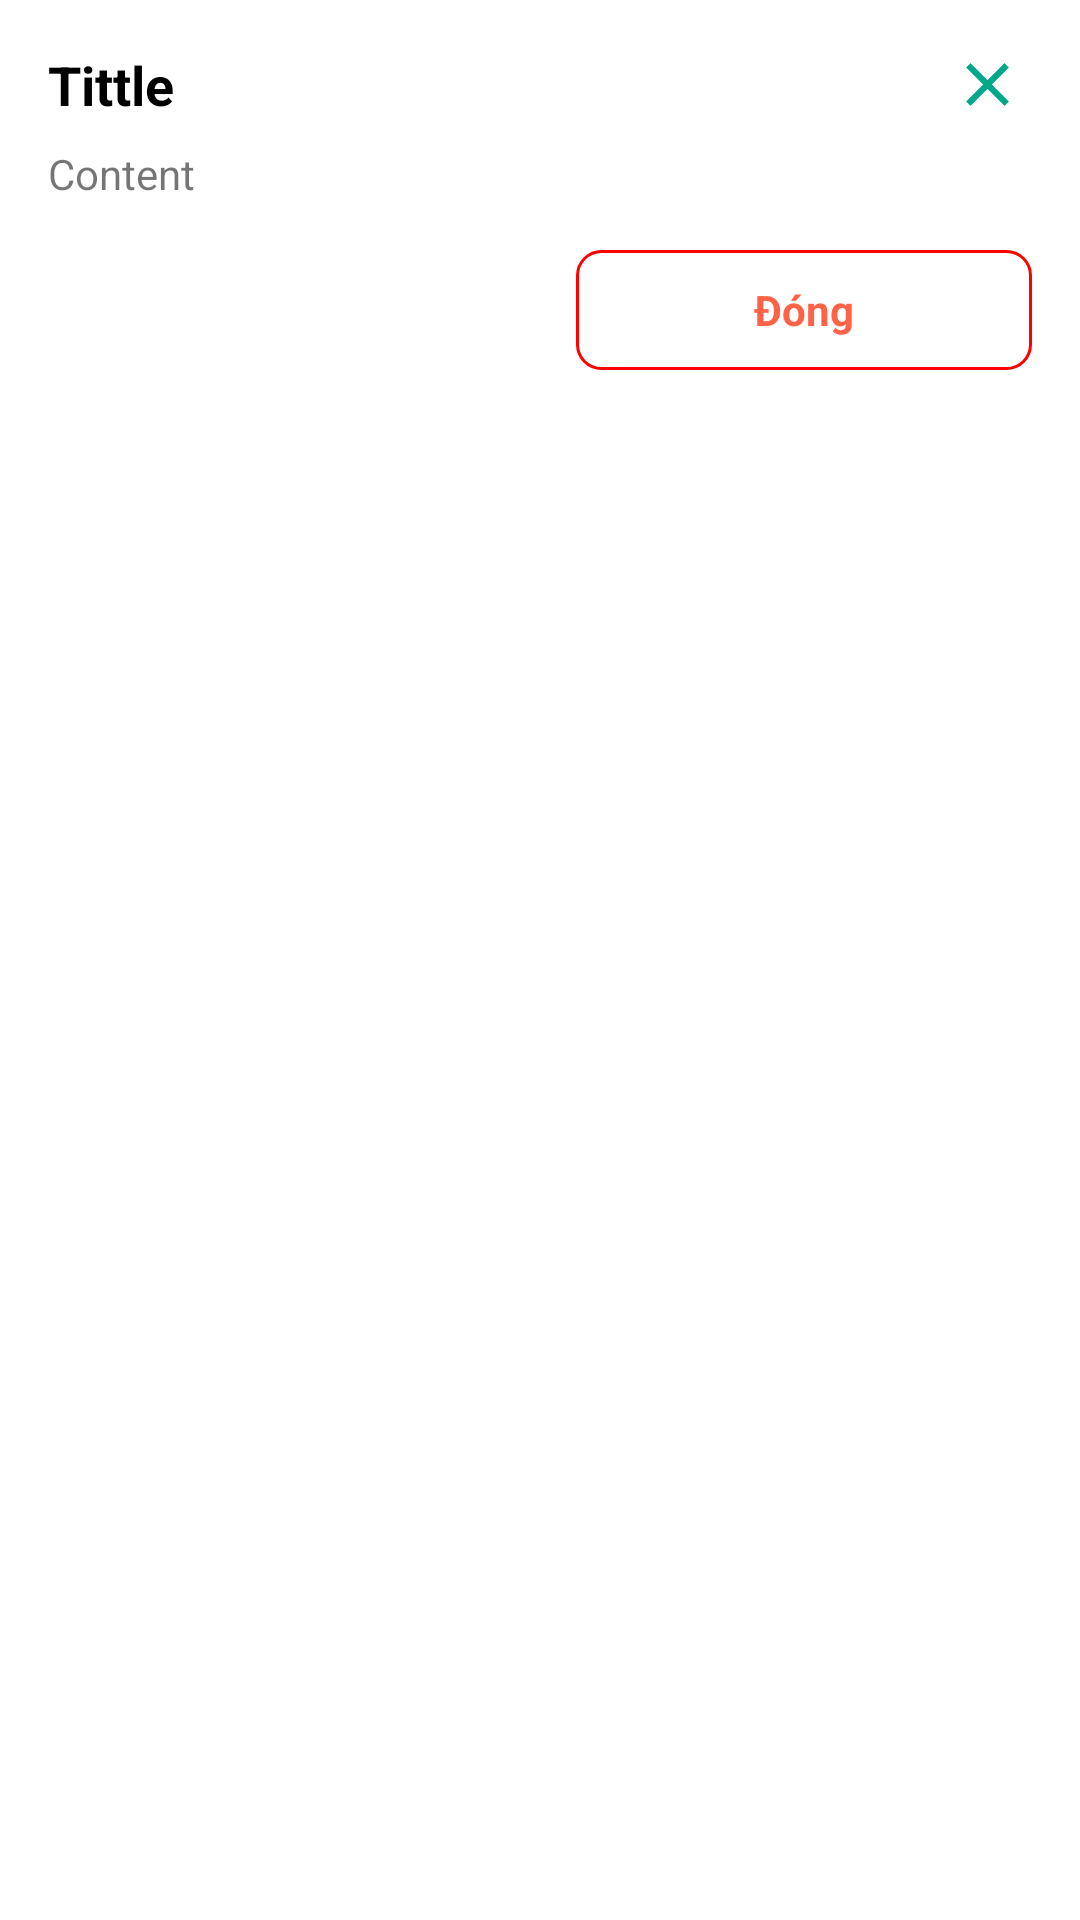

Named icons in this screenshot (1080px×1920px) and their centers, (x=x, y=y):
close: (x=987, y=84)
